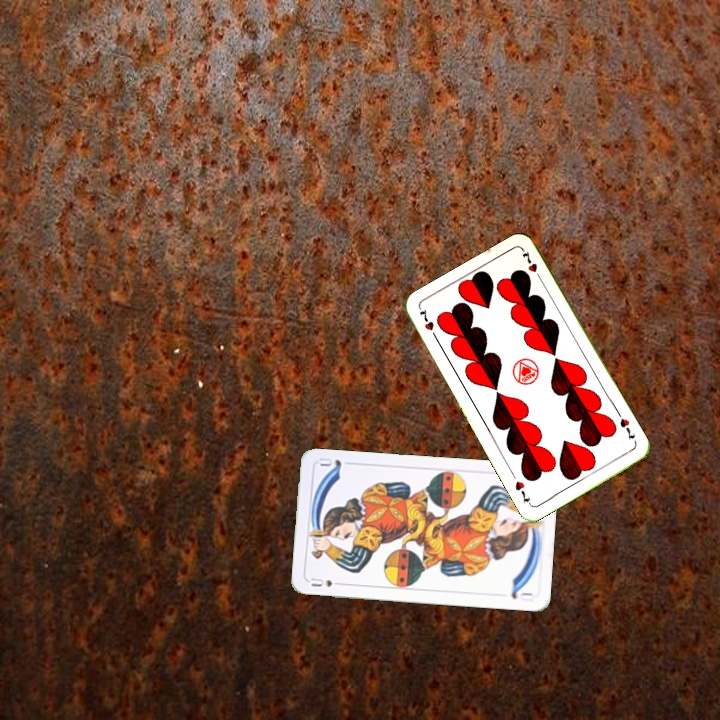H7: (415, 305, 440, 342), (616, 414, 638, 442)
SU: (307, 574, 346, 589)
